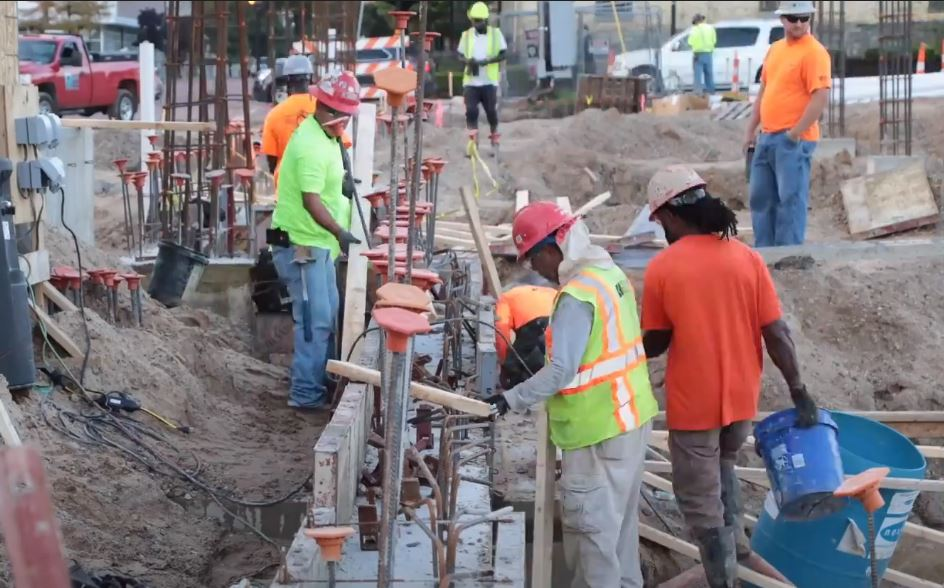Safety Helmet: (633, 154, 736, 267), (498, 189, 600, 294), (299, 65, 367, 134), (453, 1, 502, 50), (778, 1, 821, 43)
